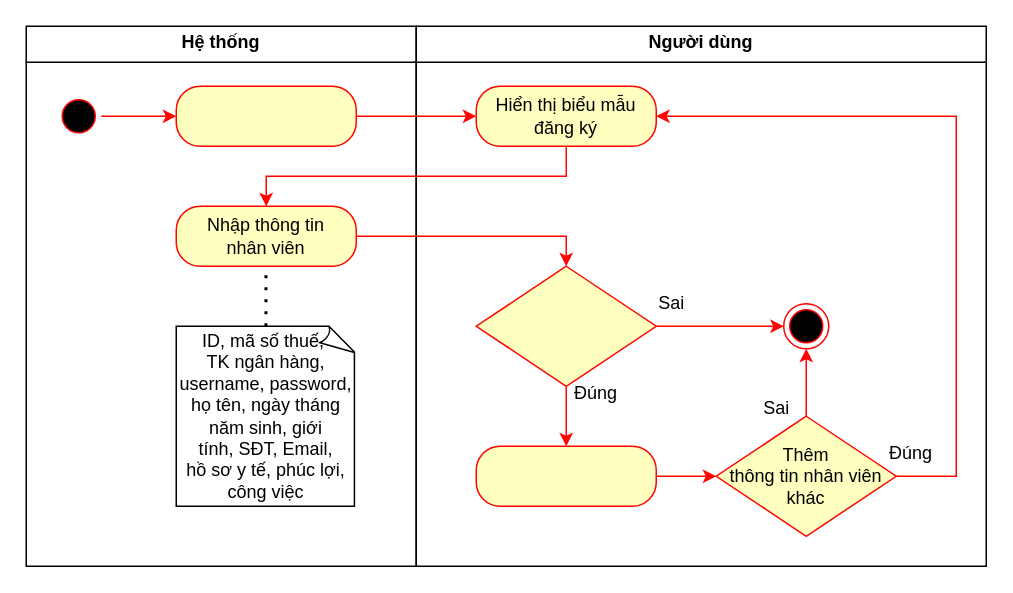
The diagram is 1013 pixels wide and 593 high, and some of its shapes have lost their labels. Here are the shapes that lost their labels. From the top down, the box of each, then its label:
(175, 85, 356, 146): Thêm thông tin nhân viên
(475, 265, 656, 386): Xác nhận thêm thông tin nhân viên
(475, 445, 656, 506): Lưu thông tin nhân viên vào CSDL
